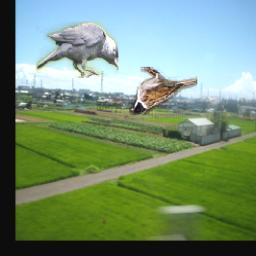Crow: (36, 23, 118, 79)
Sparrow: (130, 68, 198, 116)
